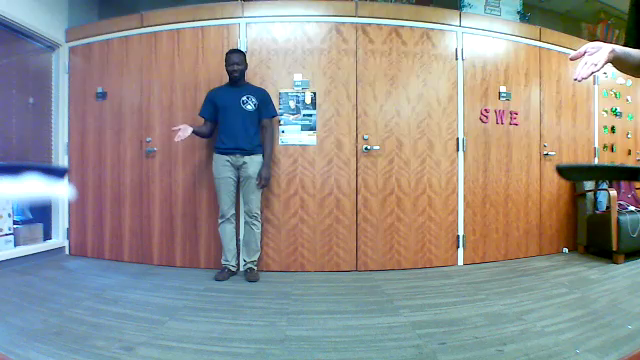land: (551, 31, 628, 84), (167, 120, 197, 145)
